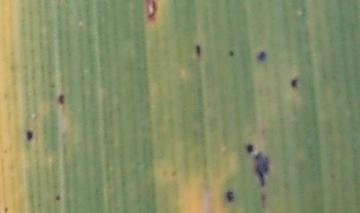tarspot: (252, 149, 270, 189), (258, 191, 268, 210), (223, 189, 235, 202), (289, 76, 300, 90), (192, 42, 201, 57), (244, 142, 255, 154), (24, 129, 33, 142), (256, 51, 266, 62), (58, 92, 66, 105), (226, 49, 236, 59), (54, 194, 62, 202), (3, 206, 10, 213)
